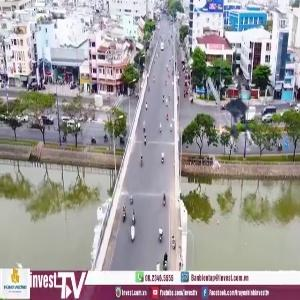drone: (206, 69, 289, 152)
